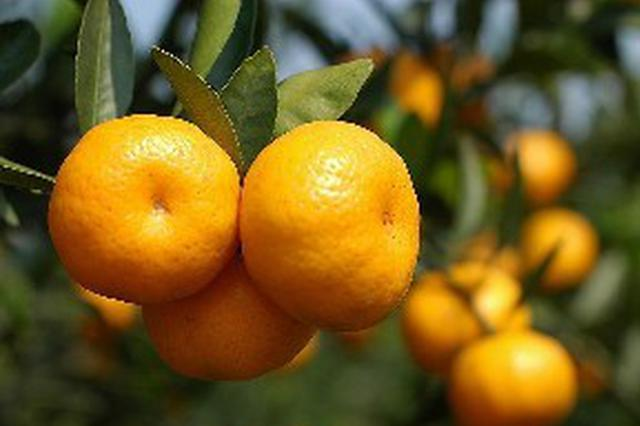orange: (238, 118, 419, 328), (49, 114, 236, 302), (142, 209, 322, 380)
